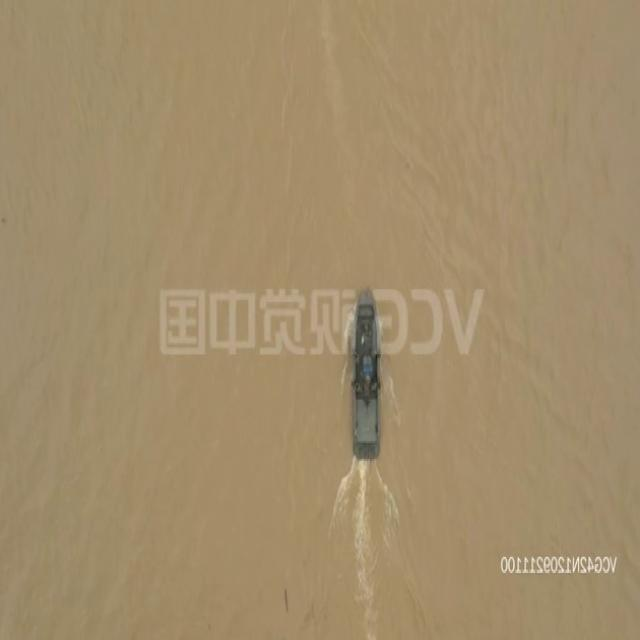houseboat: (349, 287, 382, 461)
